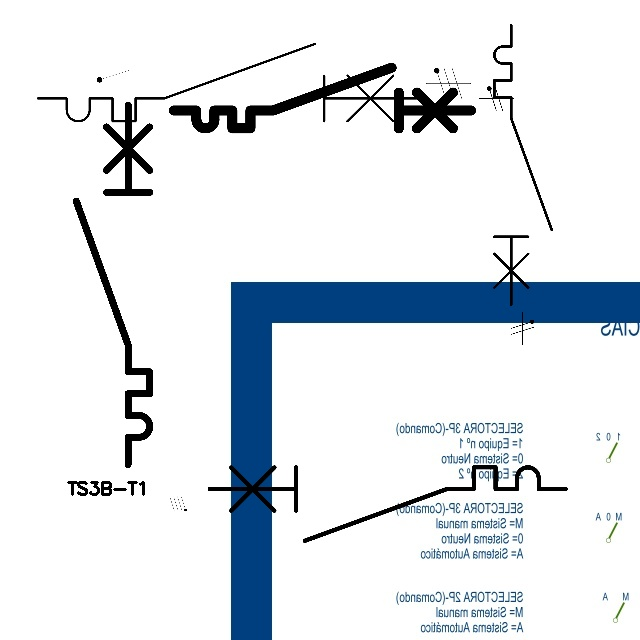interruptor_termomagnetico: (28, 34, 426, 131), (67, 95, 159, 474), (200, 458, 575, 549), (166, 60, 478, 136), (487, 18, 559, 312)
